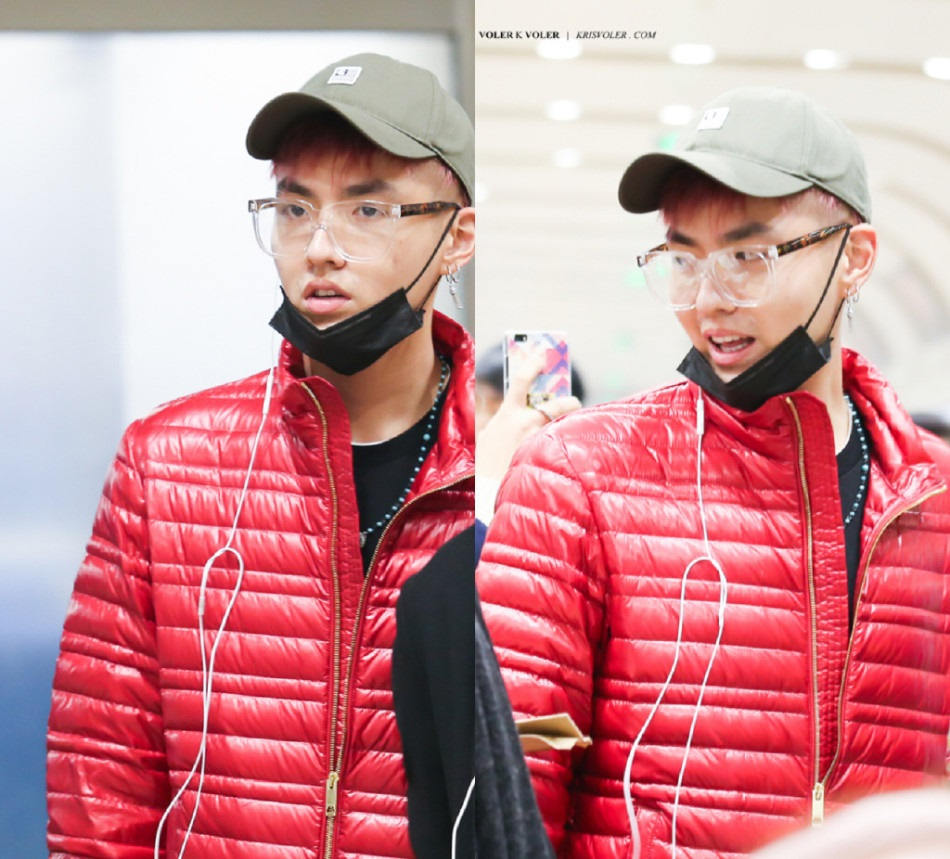face: (269, 126, 447, 345), (661, 172, 831, 382)
